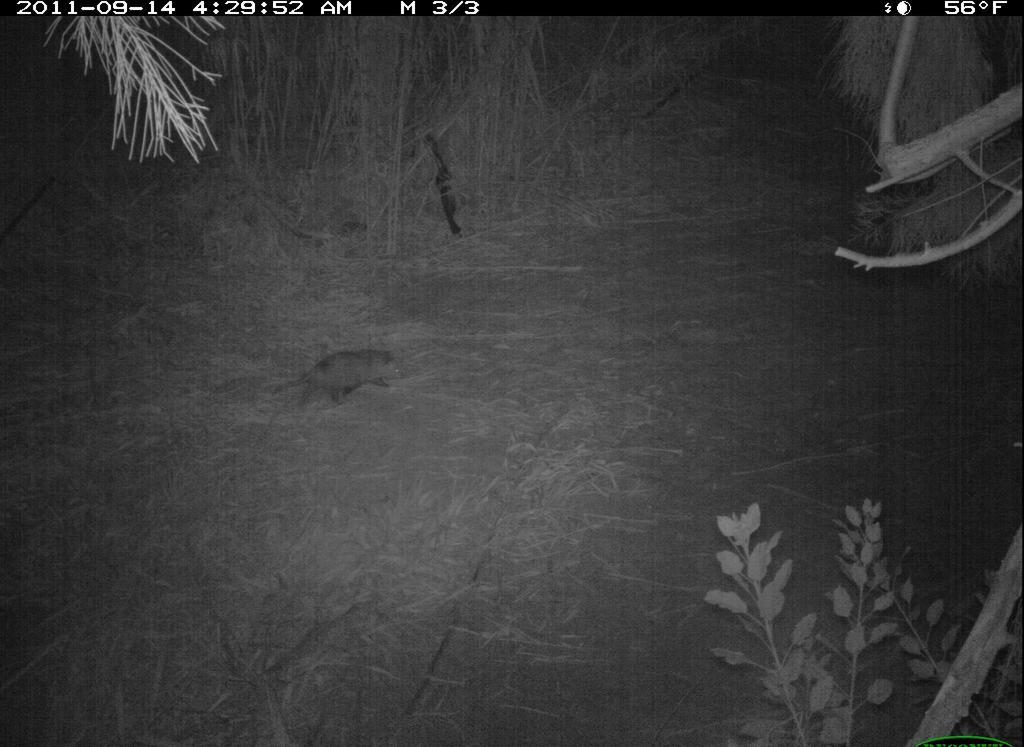opossum: (272, 344, 414, 422)
